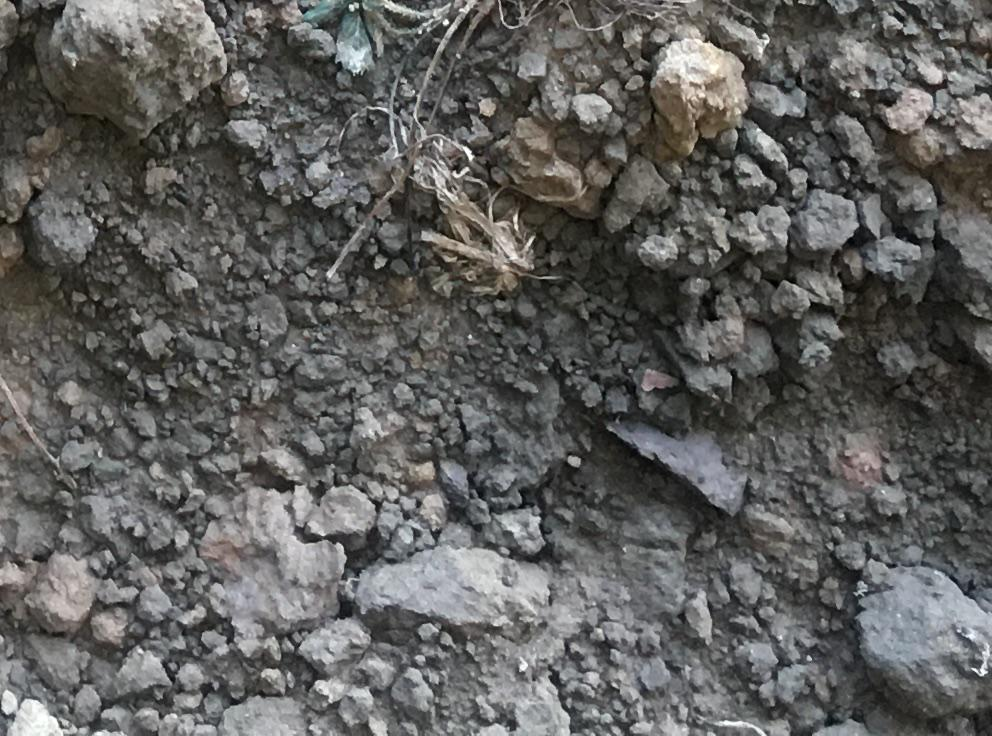block: (34, 1, 230, 138), (854, 559, 989, 726), (655, 42, 749, 159)
